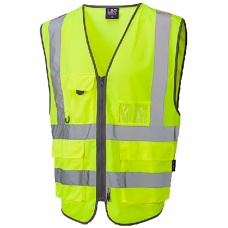safety vest: (40, 6, 184, 224)
